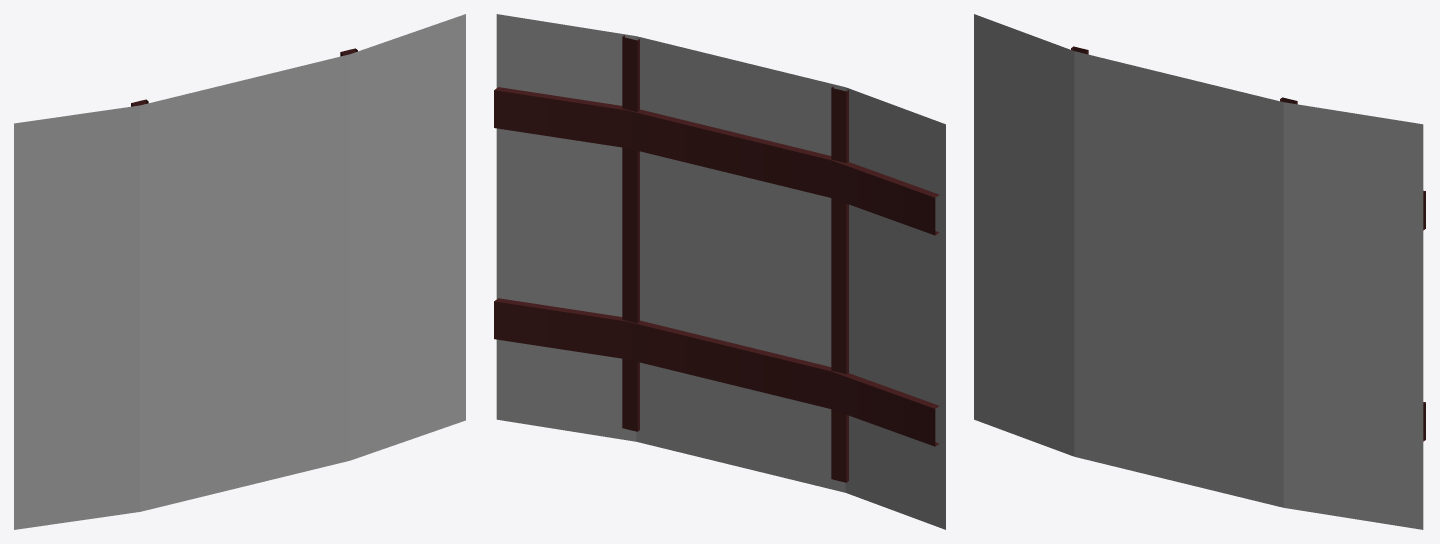
Rendered from Window2.fbx.
The picture shows the model from 3 angles, left to right: view 1: azimuth 30°, elevation 25°; view 2: azimuth 150°, elevation 25°; view 3: azimuth 330°, elevation 25°; orthographic projection.
Parts seen in each view (by area): view 1: polySurface1; view 2: polySurface1; view 3: polySurface1.
Boxes of the visible parts, box(x1,y1,x2,y2) form: polySurface1: box(14, 14, 465, 529); polySurface1: box(494, 14, 945, 529); polySurface1: box(974, 14, 1425, 529).
Size of the model in its own units: 2.65 by 2.28 by 0.1806.
